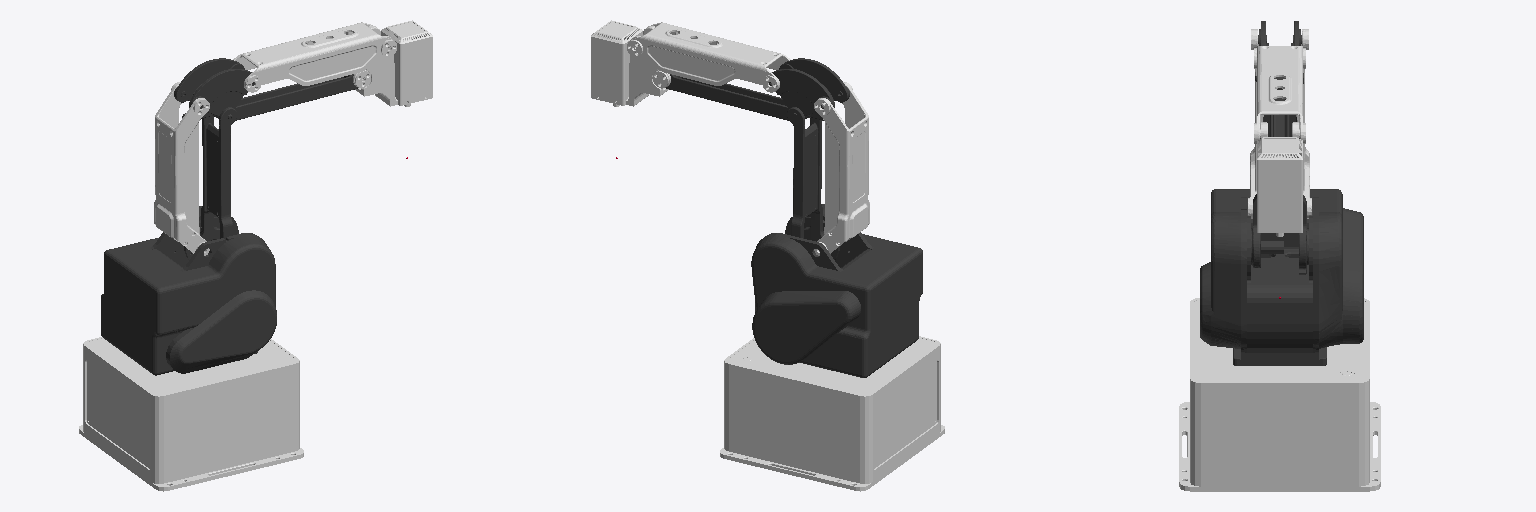
URDF robot description (mg400):
<?xml version="1.0" encoding="utf-8"?>
<!-- This URDF was automatically created by SolidWorks to URDF Exporter! Originally created by Stephen Brawner ([email redacted]) 
     Commit Version: 1.6.0-1-g15f4949  Build Version: 1.6.7594.29634
     For more information, please see http://wiki.ros.org/sw_urdf_exporter -->
<robot name="mg400">
  <material name="TransparentRed">
    <color rgba="0.9 0 0.2 0.5"/>
  </material>
  <!-- Colors -->
  <material name="DarkGrey">
    <color rgba="0.3 0.3 0.3 1.0"/>
  </material>
  <material name="Grey">
    <color rgba="0.4 0.4 0.4 1.0"/>
  </material>
  <material name="Orange">
    <color rgba="1.0 0.423529411765 0.0392156862745 1.0"/>
  </material>
  <material name="Blue">
    <color rgba="0 0.1 1.0 1.0"/>
  </material>
  <material name="LightGrey">
    <color rgba="0.9 0.9 0.9 1.0"/>
  </material>
  <material name="Red">
    <color rgba="0.9 0 0.2 1.0"/>
  </material>
  <material name="TransparentRed">
    <color rgba="0.9 0 0.2 0.5"/>
  </material>
  <material name="Green">
    <color rgba="0 0.9 0.5 1.0"/>
  </material>
  <material name="Yellow">
    <color rgba="0.7 0.7 0 1.0"/>
  </material>
  <material name="LightBlue">
    <color rgba="0. 0.3 1.0 1.0"/>
  </material>
  <material name="Black">
    <color rgba="0.05 0.05 0.05 1.0"/>
  </material>
  <material name="White">
    <color rgba="1.0 1.0 1.0 1.0" />
  </material>

  
    <link name="base_link">
        <inertial>
            <origin xyz="0.000600637001378879 -2.53487071137343E-07 0.0560927888040551" rpy="0 0 0"/>
            <mass value="3.62164811695094"/>
            <inertia
                    ixx="0.0126582175296405"
                    ixy="6.66832041405407E-08"
                    ixz="-3.52548281362717E-06"
                    iyy="0.0145891535260188"
                    iyz="5.15901657460475E-08"
                    izz="0.0195045116656827"/>
        </inertial>
        <visual>
            <origin xyz="0 0 0" rpy="0 0 0"/>
            <geometry>
                <mesh filename="package://mg400/meshes/base_link.STL"/>
            </geometry>
            <material name="LightGrey"/>

        </visual>
        <collision>
            <origin xyz="0 0 0" rpy="0 0 0"/>
            <geometry>
                <mesh filename="package://mg400/meshes/base_link.STL"/>
            </geometry>
        </collision>
    </link>

    <link name="link1">
        <inertial>
            <origin xyz="-0.0046209286967387 -6.88107982318643E-05 0.0709919358465827" rpy="0 0 0"/>
            <mass value="1.77056222753813"/>
            <inertia
                    ixx="0.00605885293080088"
                    ixy="0.000156081820035162"
                    ixz="-0.00021785654850453"
                    iyy="0.00579381982249127"
                    iyz="6.20876898015621E-05"
                    izz="0.00741058257251941"/>
        </inertial>
        <visual>
            <origin xyz="0 0 0" rpy="0 0 0"/>
            <geometry>
                <mesh filename="package://mg400/meshes/link1.STL"/>
            </geometry>
            <material name="DarkGrey"/>
        </visual>
        <collision>
            <origin xyz="0 0 0" rpy="0 0 0"/>
            <geometry>
                <mesh filename="package://mg400/meshes/link1.STL"/>
            </geometry>
        </collision>
    </link>

    <joint name="j1" type="revolute">
        <origin xyz="-0.00500000000000002 0 0.109" rpy="0 0 0"/>
        <parent link="base_link"/>
        <child link="link1"/>
        <axis xyz="0 0 1"/>
        <limit lower="-3.14" upper="3.14" effort="0" velocity="0"/>
    </joint>

    <link name="link2_1">
        <inertial>
            <origin xyz="-0.00321788524756698 0.0352926570826593 0.0596131328734945" rpy="0 0 0"/>
            <mass value="0.0866115884541459"/>
            <inertia
                    ixx="0.000338551627157209"
                    ixy="-2.78858228577314E-09"
                    ixz="1.05212346076681E-05"
                    iyy="0.000307789653713489"
                    iyz="-1.36109590152488E-06"
                    izz="3.89949940178023E-05"/>
        </inertial>
        <visual>
            <origin xyz="0 0 0" rpy="0 0 0"/>
            <geometry>
                <mesh filename="package://mg400/meshes/link2_1.STL"/>
            </geometry>
            <material name="DarkGrey"/>
        </visual>
        <collision>
            <origin xyz="0 0 0" rpy="0 0 0"/>
            <geometry>
                <mesh filename="package://mg400/meshes/link2_1.STL"/>
            </geometry>
        </collision>
    </link>

    <joint name="j2_1" type="revolute">
        <origin xyz="0.0435007595118091 -0.0357748756218899 0.118995682641123" rpy="0 0 0"/>
        <parent link="link1"/>
        <child link="link2_1"/>
        <axis xyz="0 1 0"/>
        <limit lower="-3.14" upper="3.14" effort="0" velocity="0"/>
    </joint>

    <link name="link3_1">
        <inertial>
            <origin xyz="0.0821679417596488 0.000113044685842874 -0.00333758753063973" rpy="0 0 0"/>
            <mass value="0.0375214831045061"/>
            <inertia
                    ixx="2.54761091812684E-06"
                    ixy="3.73102654491378E-07"
                    ixz="-2.02625705871199E-06"
                    iyy="0.000164234314177935"
                    iyz="-1.44731096825347E-08"
                    izz="0.000164331500854172"/>
        </inertial>
        <visual>
            <origin xyz="0 0 0" rpy="0 0 0"/>
            <geometry>
                <mesh filename="package://mg400/meshes/link3_1.STL"/>
            </geometry>
            <material name="DarkGrey"/>
        </visual>
        <collision>
            <origin xyz="0 0 0" rpy="0 0 0"/>
            <geometry>
                <mesh filename="package://mg400/meshes/link3_1.STL"/>
            </geometry>
        </collision>
    </link>

    <joint name="j3_1" type="revolute">
        <origin xyz="-0.0010512570171516 0.0357748756218898 0.175001164344716" rpy="0 0 0"/>
        <parent link="link2_1"/>
        <child link="link3_1"/>
        <axis xyz="0 1 0"/>
        <limit lower="-3.14" upper="3.14" effort="0" velocity="0"/>
    </joint>

    <link name="link4_1">
        <inertial>
            <origin xyz="0.0387878182928232 0.0170848333998282 -0.0024610990490942" rpy="0 0 0"/>
            <mass value="0.0628979533925801"/>
            <inertia
                    ixx="4.78483605712844E-05"
                    ixy="1.42081909356751E-07"
                    ixz="8.32917079044309E-06"
                    iyy="5.42362047732042E-05"
                    iyz="-2.90608446019989E-08"
                    izz="3.36120409842199E-05"/>
        </inertial>
        <visual>
            <origin xyz="0 0 0" rpy="0 0 0"/>
            <geometry>
                <mesh filename="package://mg400/meshes/link4_1.STL"/>
            </geometry>
            <material name="LightGrey"/>
        </visual>
        <collision>
            <origin xyz="0 0 0" rpy="0 0 0"/>
            <geometry>
                <mesh filename="package://mg400/meshes/link4_1.STL"/>
            </geometry>
        </collision>
    </link>

    <joint name="j4_1" type="revolute">
        <origin xyz="0.174969784055705 -0.0170000000000335 0.00325187137614585" rpy="0 0 0"/>
        <parent link="link3_1"/>
        <child link="link4_1"/>
        <axis xyz="0 1 0"/>
        <limit lower="-3.14" upper="3.14" effort="0" velocity="0"/>
    </joint>

    <link name="link5">
        <inertial>
            <origin xyz="4.24246458685662E-07 3.08507851181768E-14 -0.0349688816440933" rpy="0 0 0"/>
            <mass value="0.0965276919819365"/>
            <inertia
                    ixx="4.98589992160928E-05"
                    ixy="-1.534865545378E-12"
                    ixz="3.46424449605658E-10"
                    iyy="4.98589881725446E-05"
                    iyz="-5.64890953414983E-17"
                    izz="2.130463008359E-05"/>
        </inertial>
        <visual>
            <origin xyz="0 0 0" rpy="0 0 0"/>
            <geometry>
                <mesh filename="package://mg400/meshes/link5.STL"/>
            </geometry>
            <material name="LightGrey"/>
        </visual>
        <collision>
            <origin xyz="0 0 0" rpy="0 0 0"/>
            <geometry>
                <mesh filename="package://mg400/meshes/link5.STL"/>
            </geometry>
        </collision>
    </link>

    <joint name="j5" type="revolute">
        <origin xyz="0.0659996239003897 0.0170000000000371 0.031000800715573" rpy="0 0 0"/>
        <parent link="link4_1"/>
        <child link="link5"/>
        <axis xyz="-1.19408295462994E-05 0 0.999999999928708"/>
        <limit lower="-3.14" upper="3.14" effort="0" velocity="0"/>
    </joint>

    <link name="link2_2">
        <inertial>
            <origin xyz="-0.0201111131723385 0.0304999635268521 0.073632809340276" rpy="0 0 0"/>
            <mass value="0.0662546292985346"/>
            <inertia
                    ixx="0.000218973873589181"
                    ixy="3.0147933007673E-10"
                    ixz="2.51402553227571E-06"
                    iyy="0.000200510070261609"
                    iyz="-1.41837669904595E-09"
                    izz="3.74316777806776E-05"/>
        </inertial>
        <visual>
            <origin xyz="0 0 0" rpy="0 0 0"/>
            <geometry>
                <mesh filename="package://mg400/meshes/link2_2.STL"/>
            </geometry>
            <material name="LightGrey"/>
        </visual>
        <collision>
            <origin xyz="0 0 0" rpy="0 0 0"/>
            <geometry>
                <mesh filename="package://mg400/meshes/link2_2.STL"/>
            </geometry>
        </collision>
    </link>

    <joint name="j2_2" type="revolute">
        <origin xyz="0.00452885682964267 -0.0305 0.141500000000001" rpy="0 0 0"/>
        <parent link="link1"/>
        <child link="link2_2"/>
        <axis xyz="0 1 0"/>
        <limit lower="-3.14" upper="3.14" effort="0" velocity="0"/>
    </joint>

    <link name="link3_2">
        <inertial>
            <origin xyz="0.0338566736074436 0.0240208873857428 0.00452229895926692" rpy="0 0 0"/>
            <mass value="0.0366692789294813"/>
            <inertia
                    ixx="7.24011830695354E-06"
                    ixy="7.93542746250724E-10"
                    ixz="-1.69163254472566E-06"
                    iyy="2.34967008246727E-05"
                    iyz="4.55507111386579E-10"
                    izz="1.66831643179488E-05"/>
        </inertial>
        <visual>
            <origin xyz="0 0 0" rpy="0 0 0"/>
            <geometry>
                <mesh filename="package://mg400/meshes/link3_2.STL"/>
            </geometry>
            <material name="DarkGrey"/>
        </visual>
        <collision>
            <origin xyz="0 0 0" rpy="0 0 0"/>
            <geometry>
                <mesh filename="package://mg400/meshes/link3_2.STL"/>
            </geometry>
        </collision>
    </link>

    <joint name="j3_2" type="revolute">
        <origin xyz="-0.00105049750546494 0.00649999999999986 0.174996846985851" rpy="0 0 0"/>
        <parent link="link2_2"/>
        <child link="link3_2"/>
        <axis xyz="0 1 0"/>
        <limit lower="-3.14" upper="3.14" effort="0" velocity="0"/>
    </joint>

    <link name="link4_2">
        <inertial>
            <origin xyz="0.0876391591012518 0.023499867452275 0.00831492252441945" rpy="0 0 0"/>
            <mass value="0.0453569016333092"/>
            <inertia
                    ixx="2.00037596001325E-05"
                    ixy="3.34474706250153E-09"
                    ixz="2.17594982354756E-07"
                    iyy="0.000132049841023893"
                    iyz="5.36978669669685E-10"
                    izz="0.000141813978894428"/>
        </inertial>
        <visual>
            <origin xyz="0 0 0" rpy="0 0 0"/>
            <geometry>
                <mesh filename="package://mg400/meshes/link4_2.STL"/>
            </geometry>
            <material name="LightGrey"/>
        </visual>
        <collision>
            <origin xyz="0 0 0" rpy="0 0 0"/>
            <geometry>
                <mesh filename="package://mg400/meshes/link4_2.STL"/>
            </geometry>
        </collision>
    </link>

    <joint name="j4_2" type="revolute">
        <origin xyz="0.0678965856063864 0.000500000000000073 0.0119719999403219" rpy="0 0 0"/>
        <parent link="link3_2"/>
        <child link="link4_2"/>
        <axis xyz="0 1 0"/>
        <limit lower="-3.14" upper="3.14" effort="0" velocity="0"/>
    </joint>

  <!--dummy joint-->
  <joint name="ee_joint" type="fixed">
    <parent link="link5"/>
    <child link="ee_link"/>
    <origin xyz="0 0 -0.065" rpy="0 0 0"/>
  </joint>

  <link name="ee_link">
    <visual>
      <origin rpy="0 0 0" xyz="0 0 0"/>
      <geometry>
        <sphere radius="0.005"/>
      </geometry>
        <material name="Red"/>
    </visual>
    <collision>
      <geometry>
        <sphere radius="0.001"/>
      </geometry>
      <origin rpy="0 0 0" xyz="0.0 0 0"/>
    </collision>
    <inertial>
      <mass value="0.0"/>
      <origin rpy="-3.14 0.0 1.57" xyz="0.0 0.0 0.0"/>
      <inertia ixx="0.001" ixy="0.0" ixz="0.0" iyy="0.001" iyz="0.0" izz="0.001"/>
    </inertial>
  </link>
  <!-- TacTip -->

  <link name="tactip_body_link">
    <inertial>
      <origin rpy="0 0 -1.57" xyz="0 0 0"/>
        <mass value="0.25"/>
        <inertia ixx="0.001" ixy="0" ixz="0" iyy="0.001" iyz="0" izz="0.001"/>
    </inertial>
    <visual>
      <origin rpy="0 0 -1.57" xyz="0 0 0"/>
      <geometry>
        <mesh filename="../tactip/standard_tactip/body/tactip_body.obj" scale="1.0 1.0 1.0"/>
      </geometry>
        <material name="whitish">
        <color rgba="0.8 0.8 0.8 1.0"/>
      </material>
    </visual>
    <collision>
      <origin rpy="0 0 -1.57" xyz="0 0 0"/>
      <geometry>
        <mesh filename="../tactip/standard_tactip/body/tactip_body.obj" scale="1.0 1.0 1.0"/>
      </geometry>
    </collision>
  </link>

  <joint name="tactip_ee_joint" type="fixed">
    <parent link="ee_link"/>
    <child link="tactip_body_link"/>
    <origin rpy="-3.14 0.0 1.57" xyz="0.0 0.0 0.0"/>
  </joint>

  <link name="tactip_tip_link">
    <contact>
      <friction_anchor/>
      <lateral_friction value="1.0"/>
    </contact>
    <inertial>
      <origin rpy="0 0 0" xyz="0 0 0"/>
        <mass value="0.01"/>
        <inertia ixx="1" ixy="0" ixz="0" iyy="1" iyz="0" izz="1"/>
    </inertial>
    <visual>
      <origin rpy="0 0 0" xyz="0 0 0"/>
      <geometry>
        <mesh filename="../tactip/standard_tactip/tip/skin.obj" scale="1.0 1.0 1.0"/>
      </geometry>
      <material name="black">
          <color rgba="0.0 0.0 0.0 1.0"/>
      </material>
    </visual>
    <collision>
      <origin rpy="0 0 0" xyz="0 0 0"/>
      <geometry>
        <mesh filename="../tactip/standard_tactip/tip/core.obj" scale="1 1 1"/>
      </geometry>
    </collision>
  </link>

  <joint name="tactip_tip_to_body" type="fixed">
      <origin rpy="1.57 0 0" xyz="0 0 0.065"/>
      <axis xyz="0 1 0"/>
      <parent link="tactip_body_link"/>
      <child link="tactip_tip_link"/>
  </joint>

  <!-- TCP -->
  <link name="tcp_link">
    <visual>
      <origin rpy="0 0 0" xyz="0 0 0"/>
      <geometry>
        <sphere radius="0.001"/>
      </geometry>
        <material name="TransparentRed"/>
    </visual>
    <inertial>
      <mass value="0.0"/>
      <origin rpy="0.0 0.0 1.57" xyz="0.0 0.0 0.0"/>
      <inertia ixx="1.0" ixy="0.0" ixz="0.0" iyy="1.0" iyz="0.0" izz="1.0"/>
    </inertial>
  </link>

  <joint name="tcp_joint" type="fixed">
    <parent link="tactip_body_link"/>
    <child link="tcp_link"/>
    <origin rpy="0 0 -1.57" xyz="0.0 0.0 0.085"/>
  </joint>


</robot>

--- Facts derived from the render (not from the file) ---
Views: 3 orthographic renders of the robot side by side, from view 1: azimuth 30°, elevation 25°; view 2: azimuth 150°, elevation 25°; view 3: azimuth 270°, elevation 25°.
Robot: mg400 — 13 links, 12 joints (8 revolute, 4 fixed); root link base_link; default pose: all joints at 0.
Visible links, largest first — view 1: base_link, link1, link2_2, link4_2, link4_1, link2_1, link3_2, link3_1; view 2: base_link, link1, link2_2, link4_2, link4_1, link2_1, link3_2, link3_1; view 3: base_link, link1, link4_1, link4_2, link2_1, link2_2.
Boxes of the visible links, <box> form: base_link: <box>79,337,303,491</box>; link1: <box>101,206,276,375</box>; link2_2: <box>154,82,209,255</box>; link4_2: <box>233,22,396,92</box>; link4_1: <box>353,20,432,106</box>; link2_1: <box>200,107,236,241</box>; link3_2: <box>174,58,254,118</box>; link3_1: <box>182,74,357,120</box>; base_link: <box>720,336,944,491</box>; link1: <box>751,204,922,377</box>; link2_2: <box>814,82,869,255</box>; link4_2: <box>627,22,790,92</box>; link4_1: <box>591,20,670,106</box>; link2_1: <box>787,107,823,241</box>; link3_2: <box>769,58,849,118</box>; link3_1: <box>666,74,823,120</box>; base_link: <box>1179,298,1380,491</box>; link1: <box>1200,189,1363,365</box>; link4_1: <box>1257,122,1302,232</box>; link4_2: <box>1254,46,1305,143</box>; link2_1: <box>1251,73,1308,274</box>; link2_2: <box>1248,29,1311,218</box>.
Bounding box of the posed robot: 0.3954 × 0.19 × 0.4597 m (x, y, z).
Meshes: 11 distinct files referenced, 9 mesh visuals loaded (9 binary STL); not drawn: 2 (reference not matched to a file when rendering).
